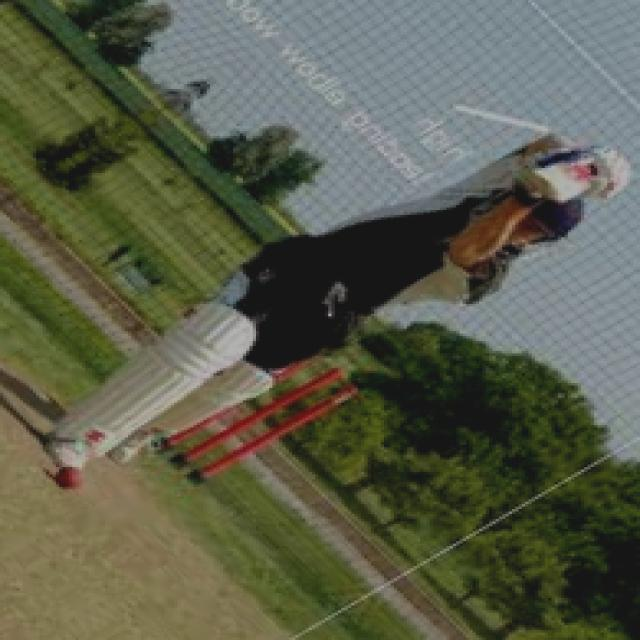toe: (515, 168, 579, 205)
